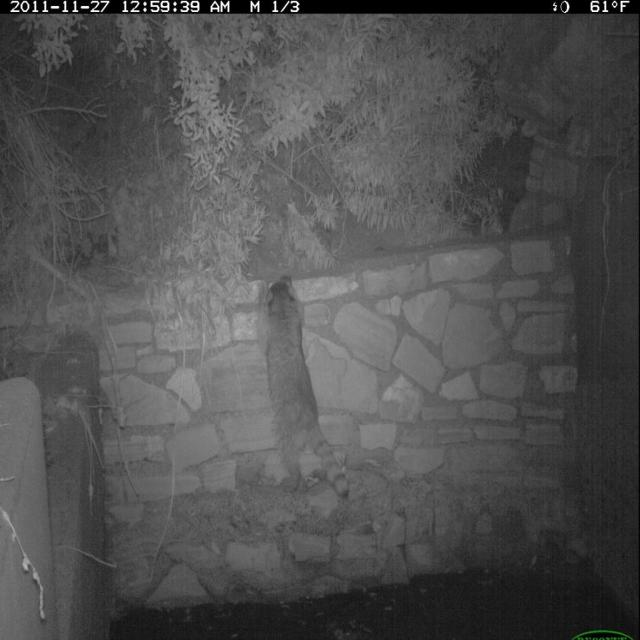raccoon: (254, 272, 355, 502)
